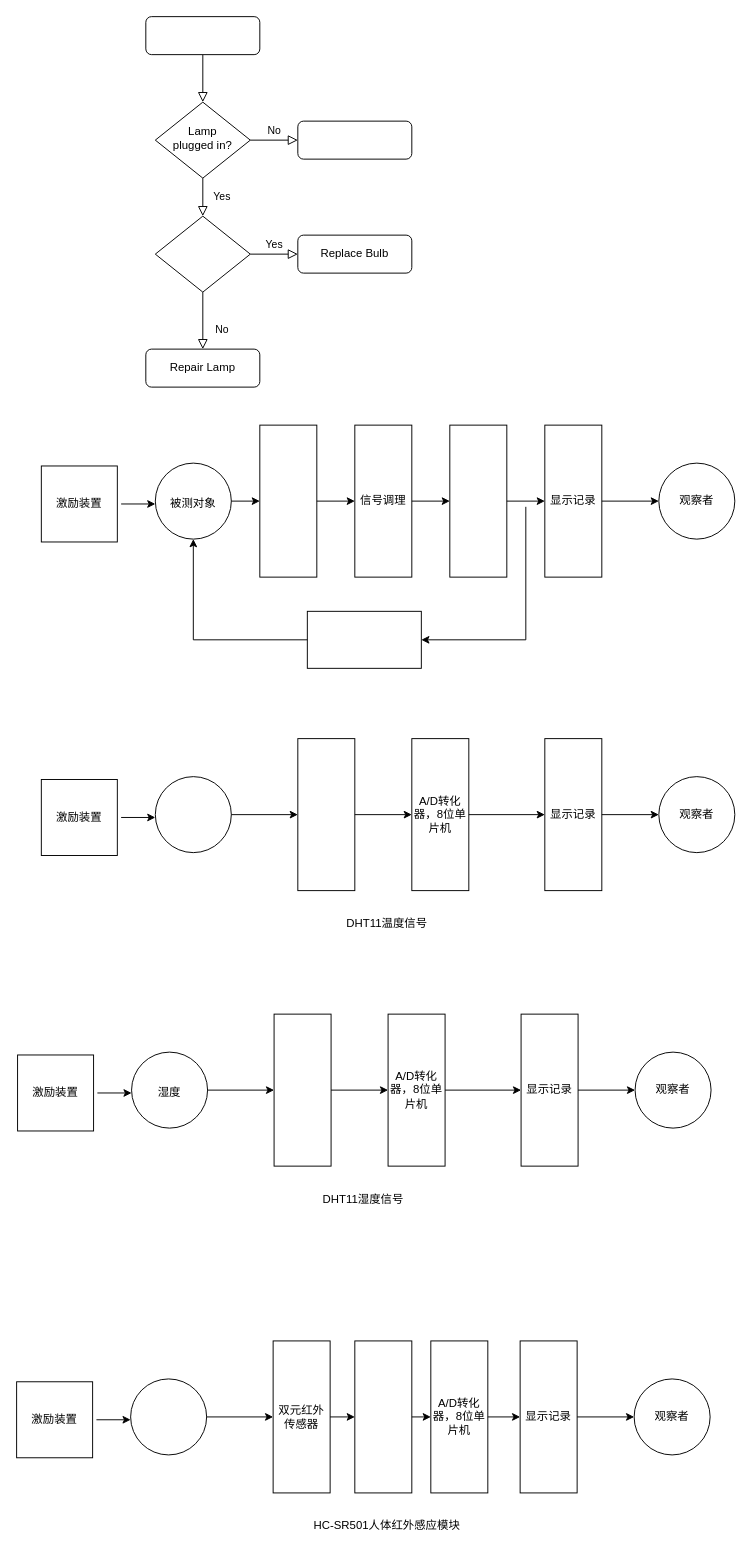
Image size: 751x1557. Some labels were removed from this diagram. Each missing label, with the box of its shape:
Bulb burned out?: (154, 215, 250, 292)
Lamp doesn't work: (145, 16, 260, 55)
NTC测温元件: (297, 738, 355, 891)
Plug in lamp: (297, 120, 412, 159)
传感器: (259, 424, 317, 577)
信号处理: (449, 424, 507, 577)
反馈控制: (306, 610, 421, 668)
放大电路: (354, 1340, 412, 1493)
温度: (154, 776, 231, 853)
电容式湿度传感器: (273, 1013, 331, 1166)
红外信号: (130, 1378, 207, 1455)
